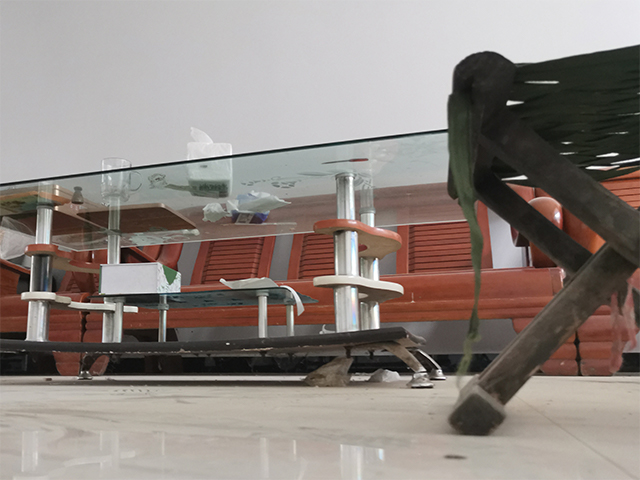stool: (446, 42, 640, 437)
table: (1, 128, 468, 390)
